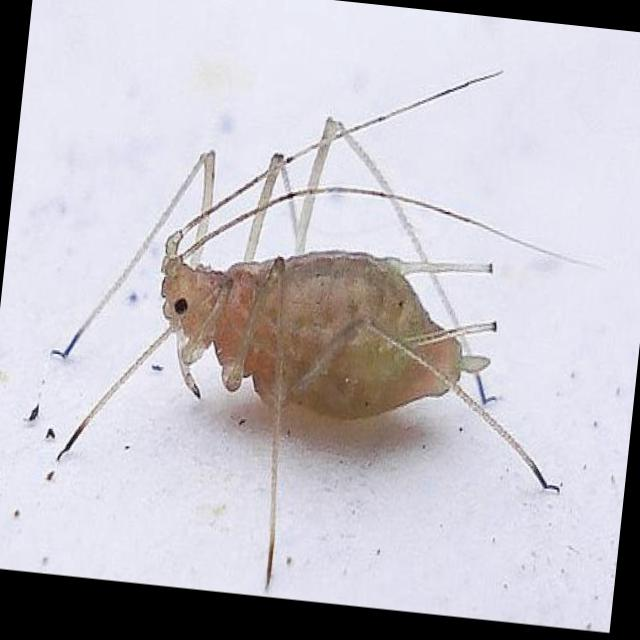aphid: (3, 13, 633, 633)
